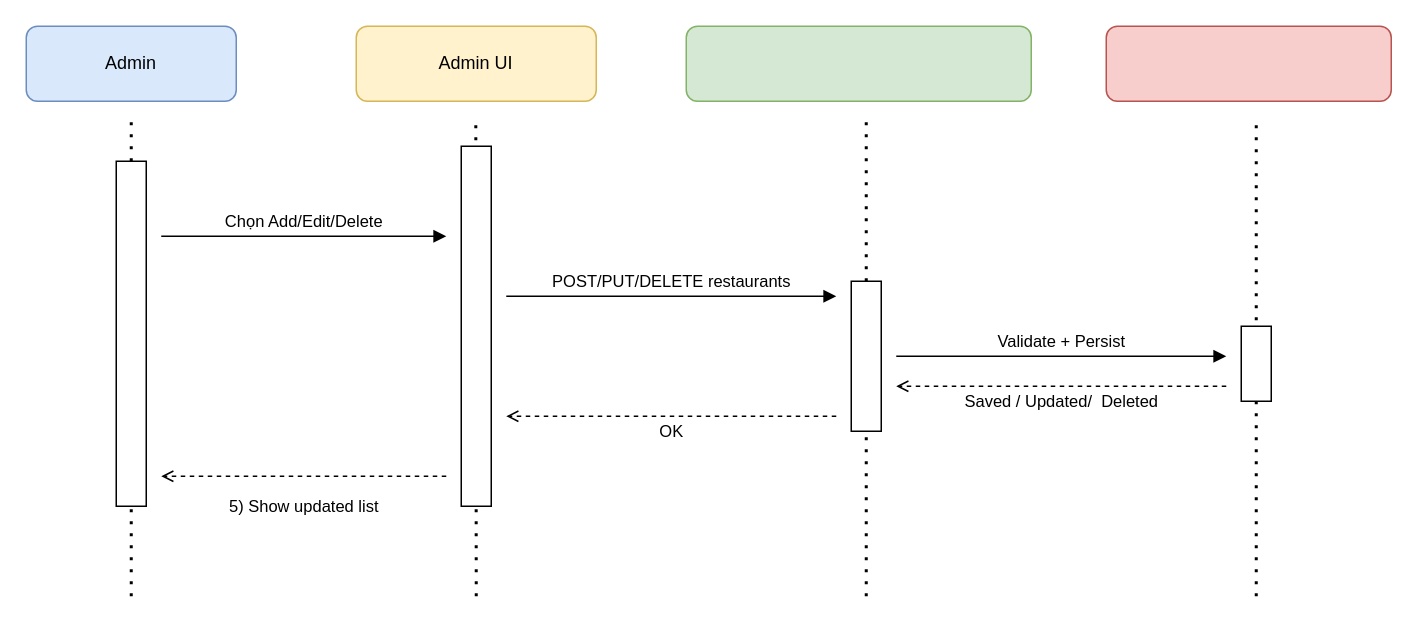
Image size: 1418x626. Some labels were removed from this diagram. The shapes that lost their labels are listed below. From the top down, each one's box as (x1, y1, x2, y2) in pixels, then its label:
(685, 25, 1031, 101): Restaurant Admin Service
(1105, 25, 1391, 101): DB (Restaurants)
